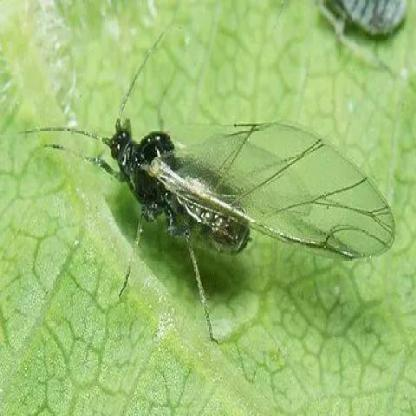aphid: (44, 60, 394, 334)
